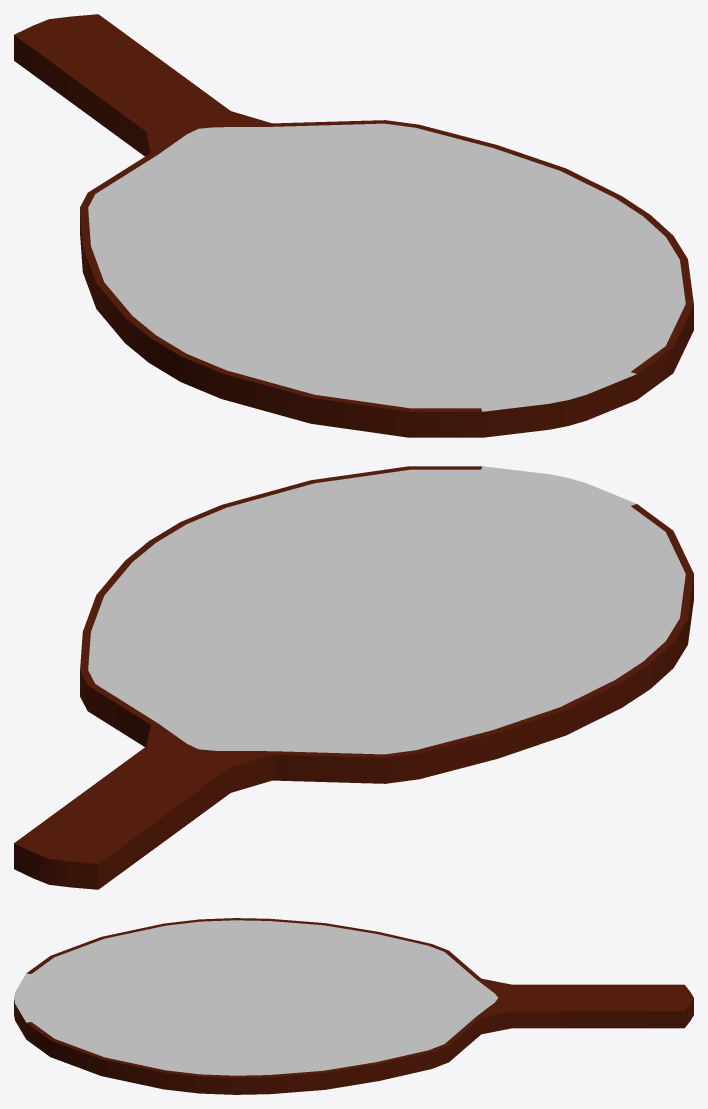
File: paddle_red.obj
3 views of the same model, one above another, from view 1: azimuth 30°, elevation 25°; view 2: azimuth 150°, elevation 25°; view 3: azimuth 270°, elevation 25° (orthographic). The views are drawn at different scales.
Visible parts, largest first — view 1: Paddle_red; view 2: Paddle_red; view 3: Paddle_red.
Boxes of the visible parts, x1,y1,x2,y2 form: Paddle_red: [14, 14, 693, 437]; Paddle_red: [14, 466, 693, 889]; Paddle_red: [14, 918, 693, 1094].
Bounding box in the file's own units: 0.3157 × 0.0156 × 0.5674.
